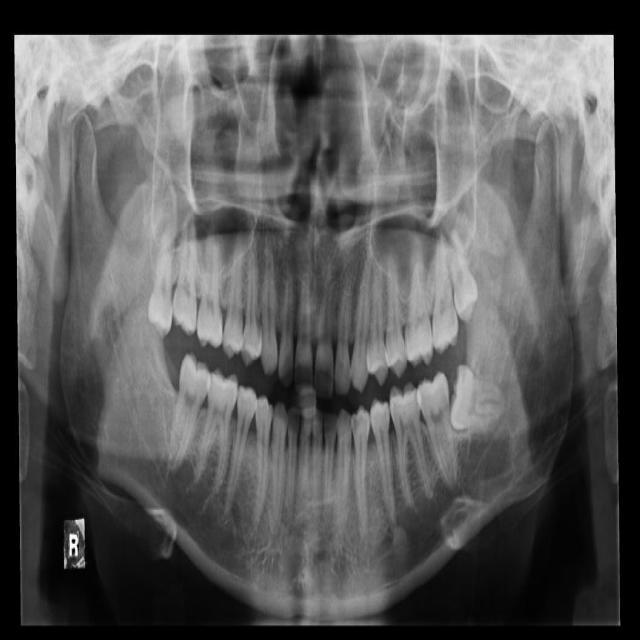3M ESPE Implant: (145, 229, 181, 340)
73: (592, 577, 598, 591)
BioHorizons Implant: (430, 233, 462, 354)
BioLife Implant: (449, 228, 480, 325)
Biomet 3i Implant: (446, 363, 510, 437)
Blue Sky Bio Implant: (414, 369, 460, 486)
Caries: (171, 210, 198, 336)
Implant: (165, 351, 216, 474)
